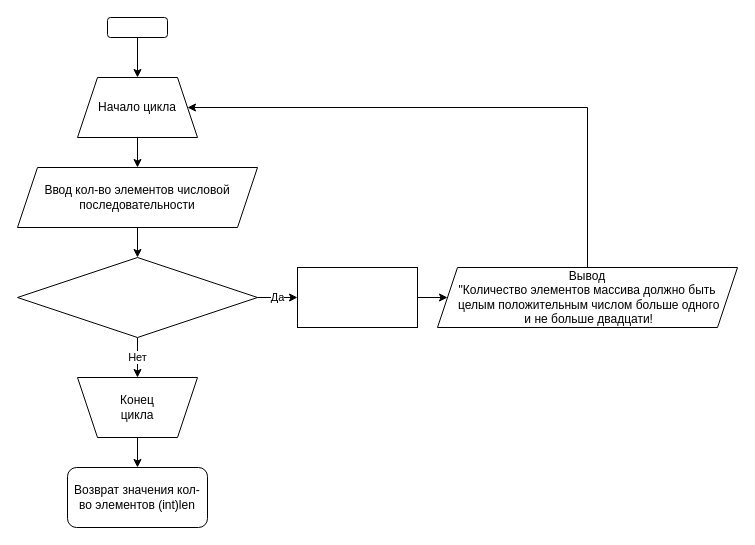
Image size: 755x545. Some labels were removed from this diagram. The shapes that lost their labels are listed below. From the top down, each one's centre as x and y in pixels, then its label:
At point 137,27: "Начало".
At point 137,297: "Число меньше 1? (ИЛИ) Число не целочисленное? (ИЛИ) Число больше 20?".
At point 357,297: "Очистка консоли".
